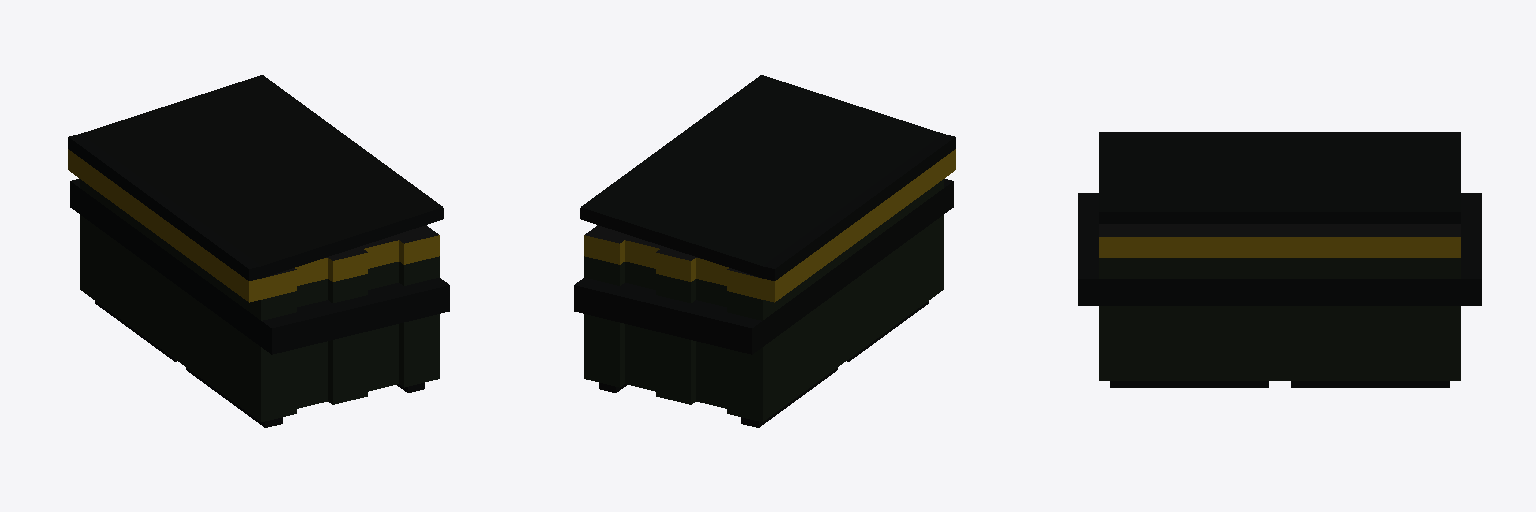
The model's file is Crate_1.obj.
3 renders of one model, left to right at view 1: azimuth 30°, elevation 25°; view 2: azimuth 150°, elevation 25°; view 3: azimuth 270°, elevation 25°, orthographic.
Parts seen in each view (by area): view 1: Cube_Cube.004; view 2: Cube_Cube.004; view 3: Cube_Cube.004.
Part boxes in pixels (bbox=[...]): Cube_Cube.004: bbox=[68, 75, 449, 427]; Cube_Cube.004: bbox=[574, 75, 955, 427]; Cube_Cube.004: bbox=[1078, 132, 1481, 387].
Bounding box in the file's own units: 0.5435 × 0.488 × 0.9752.